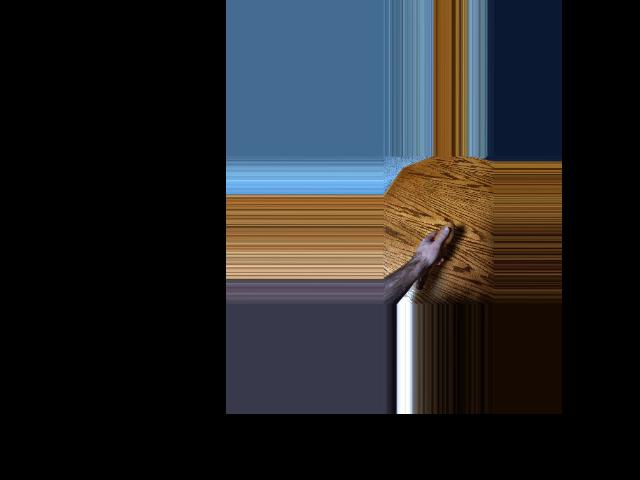sweet_potato: (414, 220, 455, 301)
